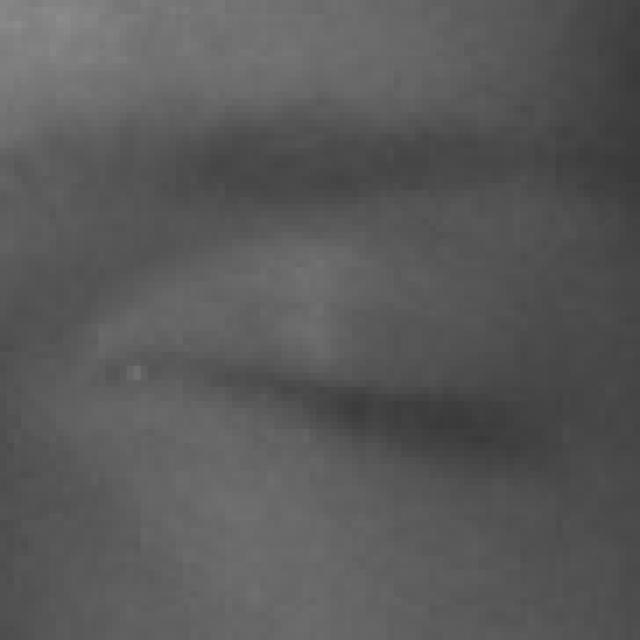Eyeclosed: (192, 242, 522, 631)
